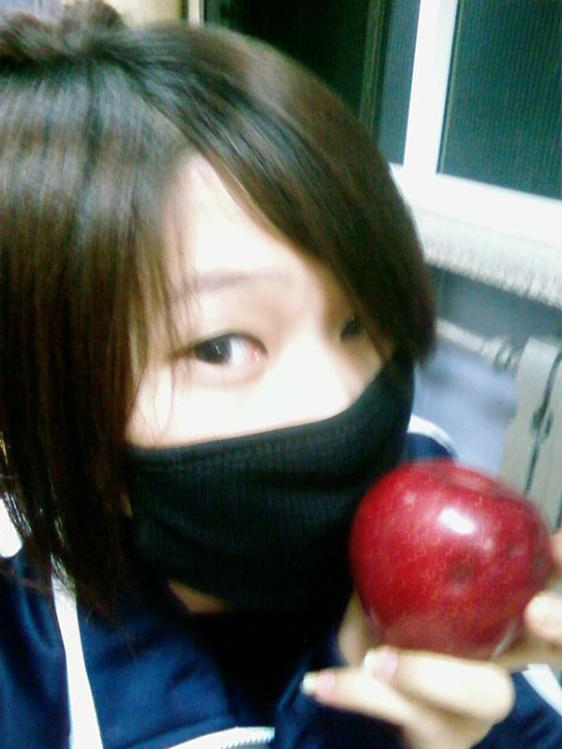OK: (76, 240, 421, 585)
